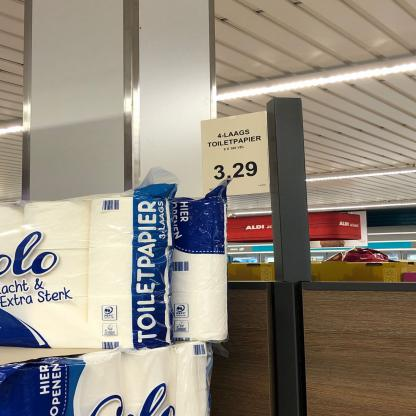prtg: (202, 112, 271, 198)
